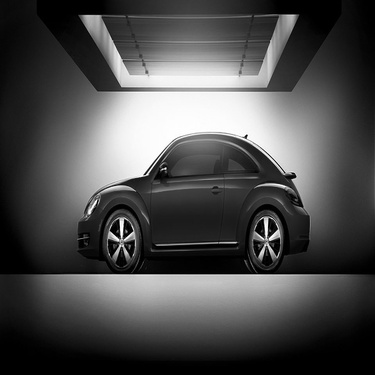car: (29, 114, 343, 266)
